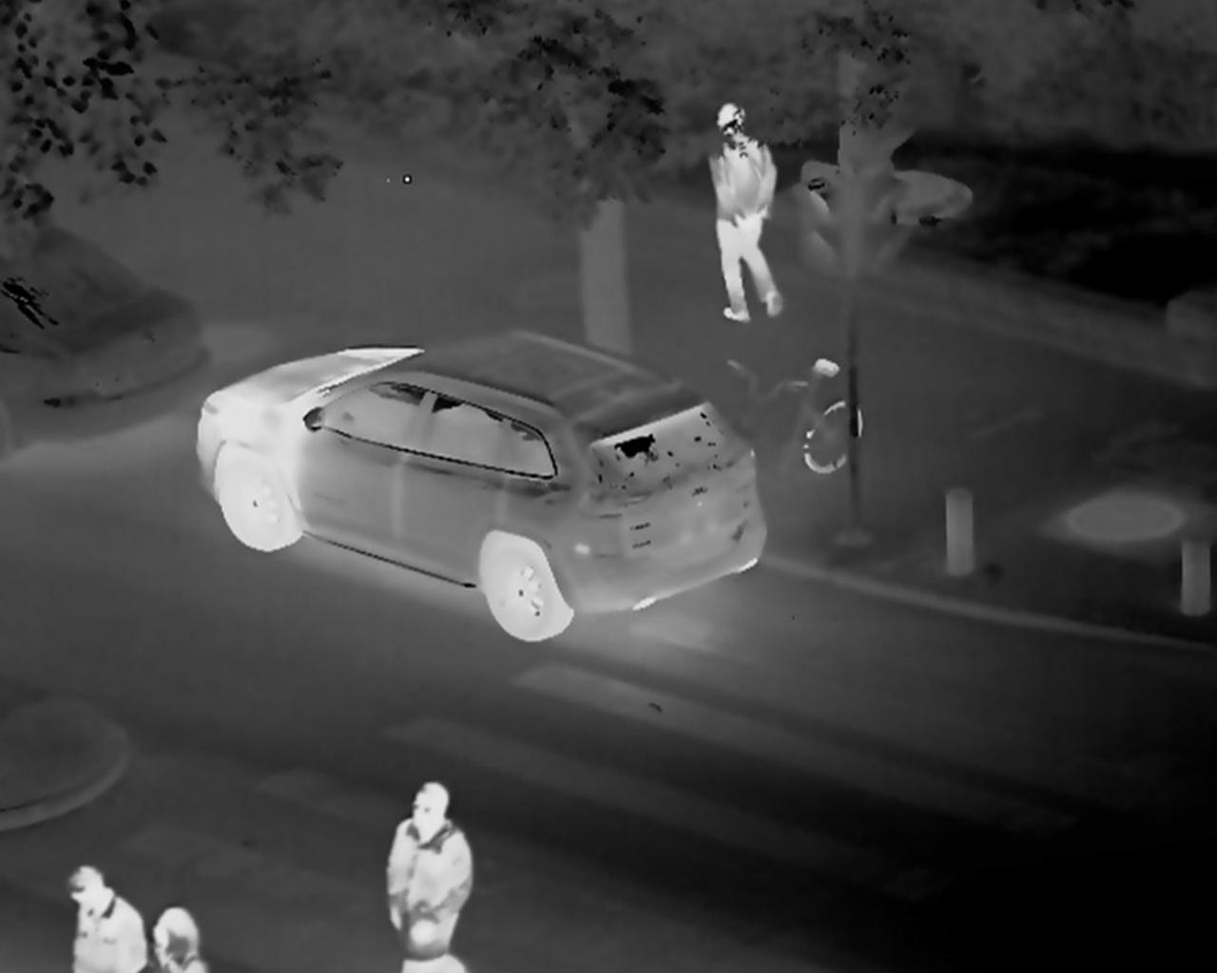person: (705, 103, 785, 325), (381, 781, 469, 973), (58, 862, 145, 973), (148, 906, 204, 973)
